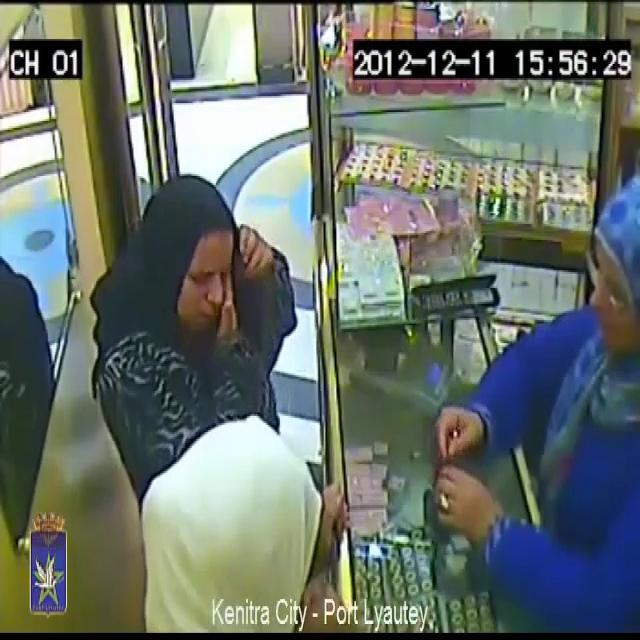Product: (443, 412, 469, 467)
normal: (136, 364, 354, 640), (136, 168, 253, 386)
shoplifting: (429, 162, 640, 627)
